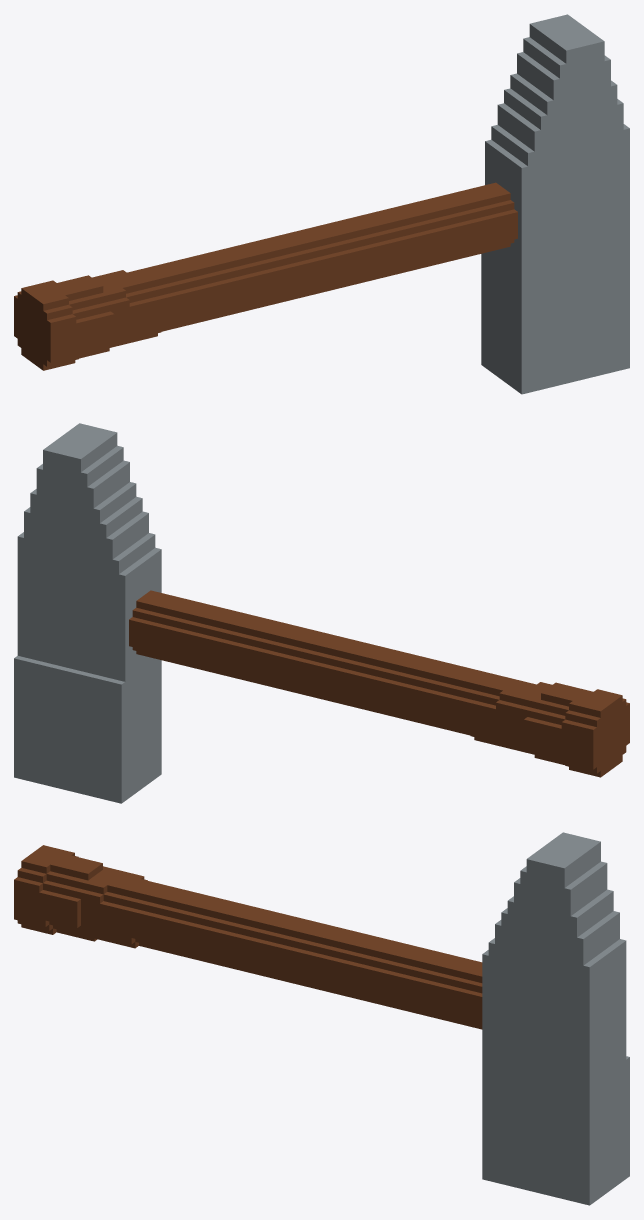
File: hammer.glb
3 renders of one model, top to bottom at view 1: azimuth 30°, elevation 25°; view 2: azimuth 150°, elevation 25°; view 3: azimuth 330°, elevation 25°, orthographic.
Visible parts, largest first — view 1: hammer:hammer; view 2: hammer:hammer; view 3: hammer:hammer.
Part boxes in pixels (x1=…): hammer:hammer: x1=14, y1=14, x2=629, y2=394; hammer:hammer: x1=14, y1=423, x2=629, y2=803; hammer:hammer: x1=14, y1=832, x2=629, y2=1205.
Bounding box in the file's own units: 0.364 × 0.2 × 0.044.
